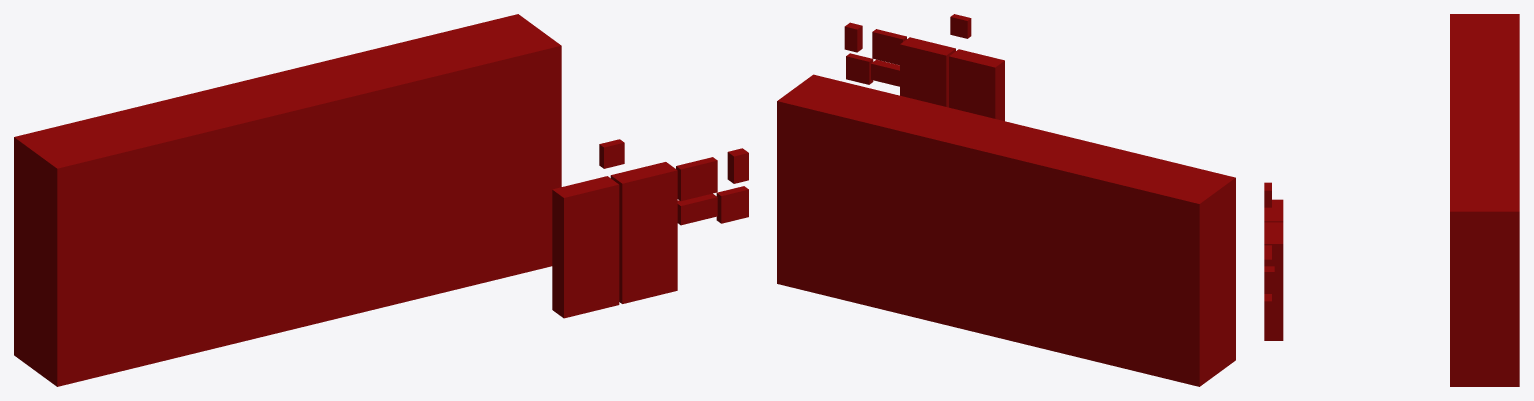
File: pM_electrical_low.FBX
3 views of the same model, side by side, from view 1: azimuth 30°, elevation 25°; view 2: azimuth 150°, elevation 25°; view 3: azimuth 270°, elevation 25° (orthographic). The views are drawn at different scales.
Parts seen in each view (by area): view 1: elektronika; view 2: elektronika; view 3: elektronika.
Part boxes in pixels (x1,y1,x2,y2): elektronika: [14, 14, 748, 386]; elektronika: [777, 14, 1235, 386]; elektronika: [1264, 14, 1519, 386].
Size of the model in its own units: 8.34 by 3.03 by 3.98.
